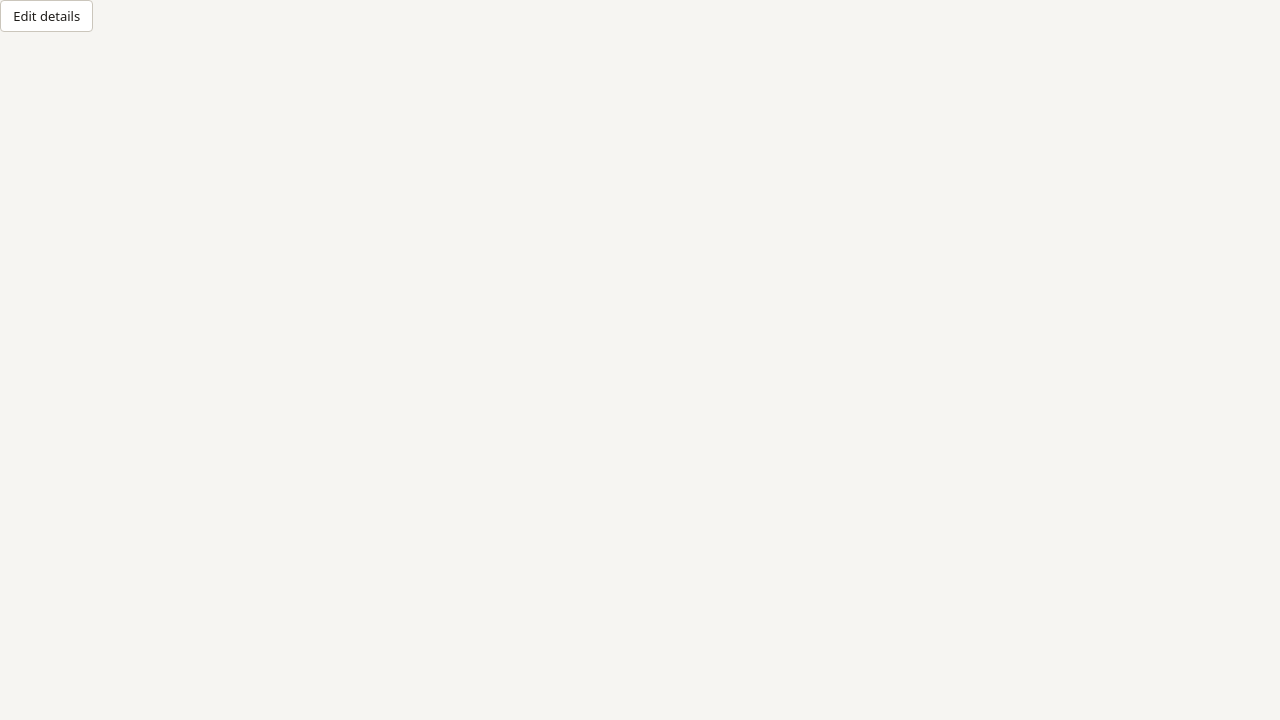
Dialog › dialog closes on Escape and returns focus
Step 1. Click the button "Edit details" → [47, 16], box 0,0 -> 93,32
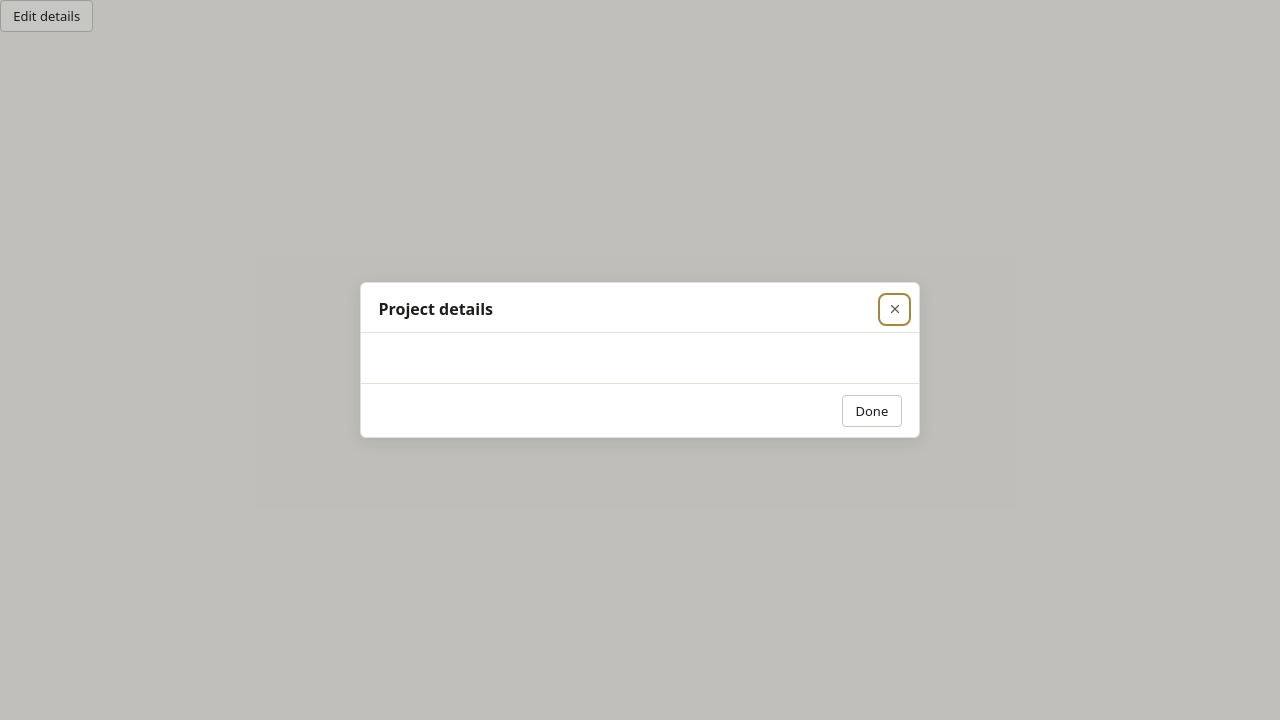
Result: the dialog "Project details" is shown at 360,282 -> 920,438
Step 2. Press Escape
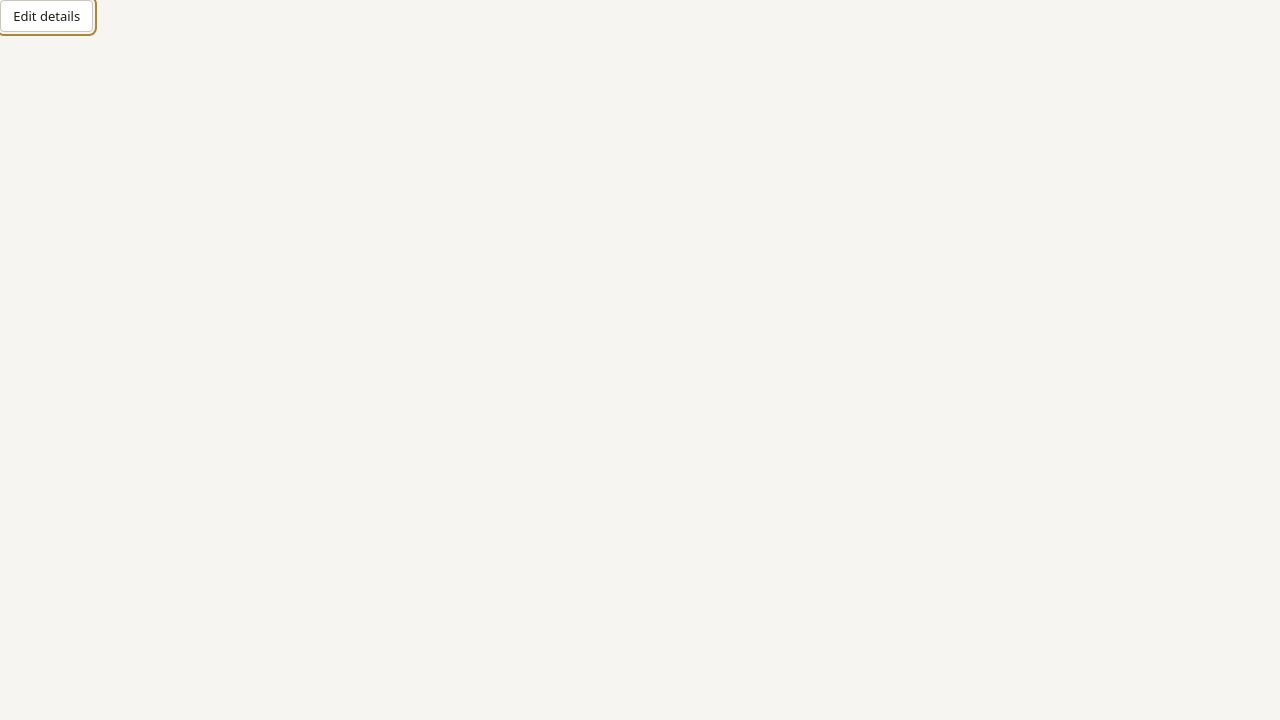
Result: the dialog is gone
